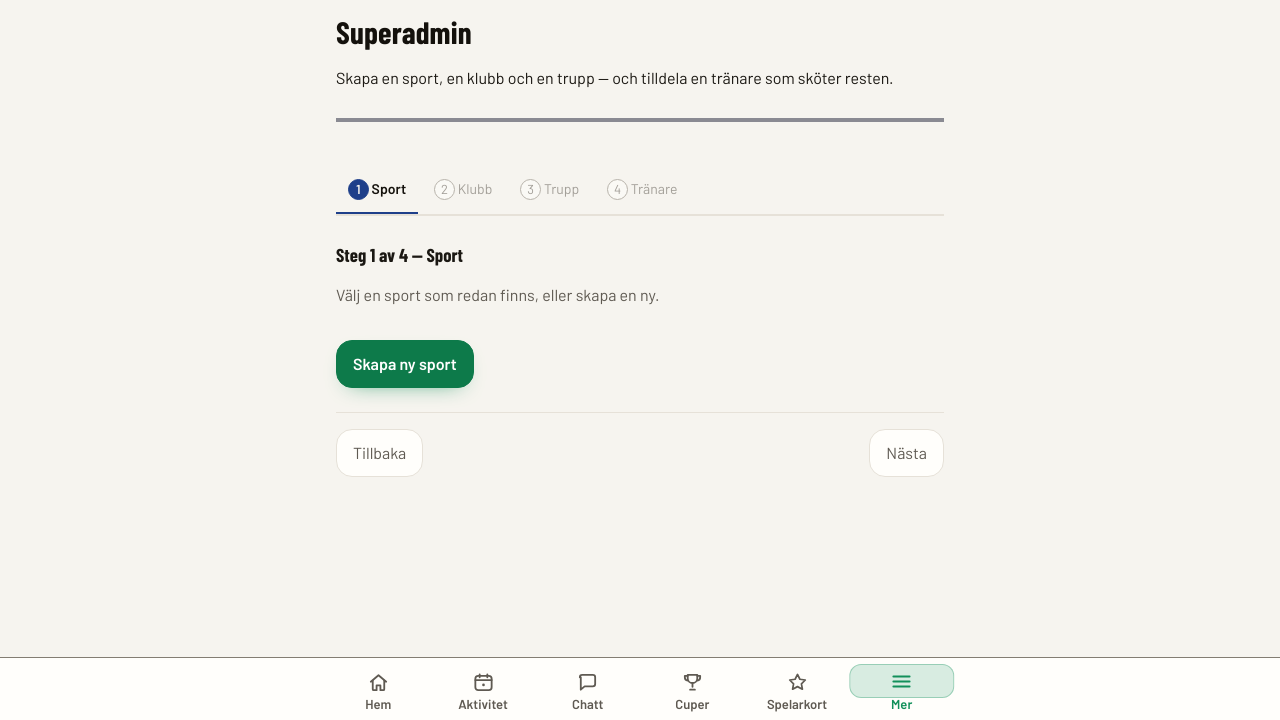
Test: Uppsättningsguiden › väljer sport med piltangenter och håller roving tabindex (#481)
Skapa två sporter så radiogruppen har mer än ett alternativ.
Click the button "Skapa ny sport" at {"x": 405, "y": 364}, box [336, 340, 474, 388]
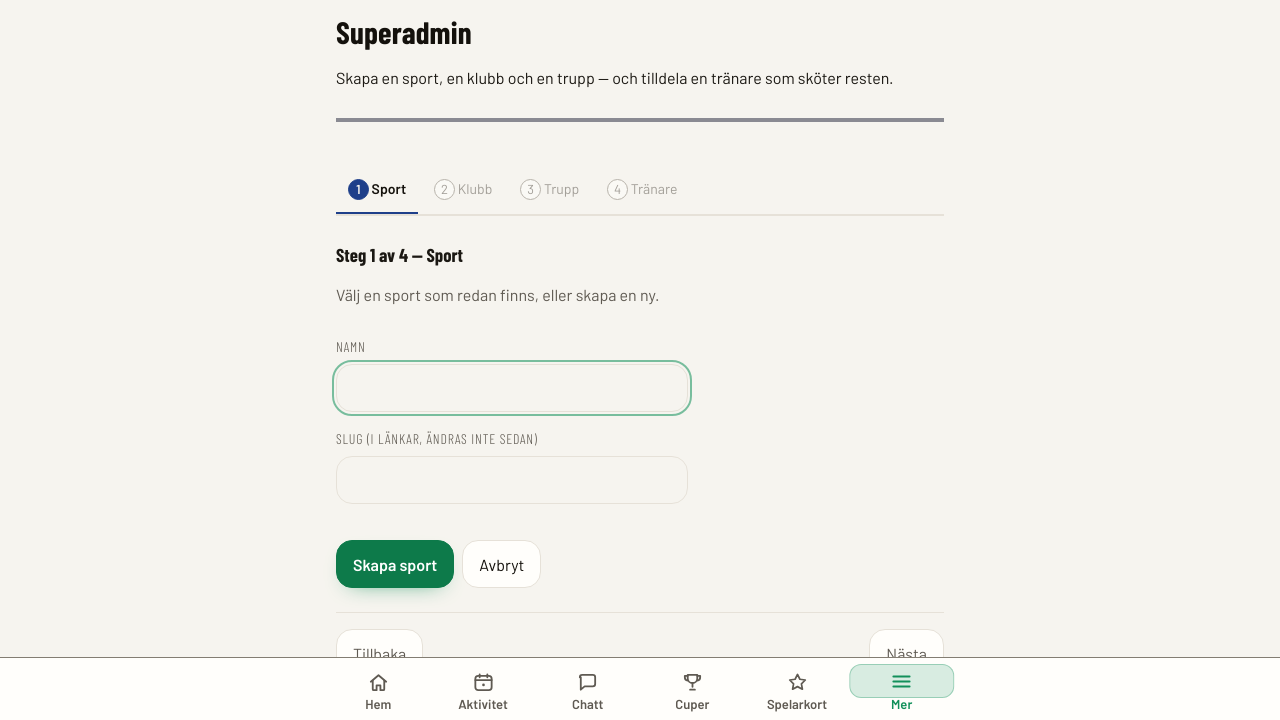
Type "Fotboll" into the field labelled "Namn" at {"x": 512, "y": 388}, box [336, 364, 688, 412]
Click the button "Skapa sport" at {"x": 395, "y": 564}, box [336, 540, 454, 588]
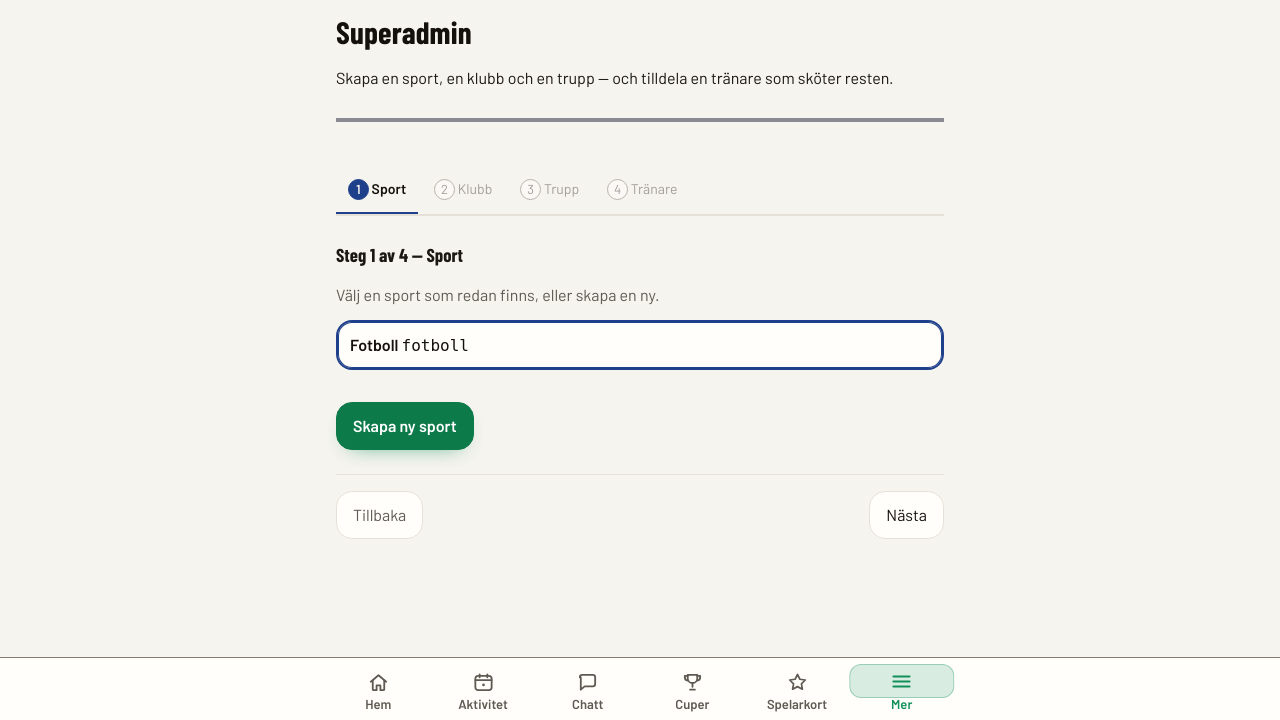
Result: the radio button labelled "Fotboll fotboll" is shown at [336, 320, 944, 370]
Click the button "Skapa ny sport" at {"x": 405, "y": 426}, box [336, 402, 474, 450]
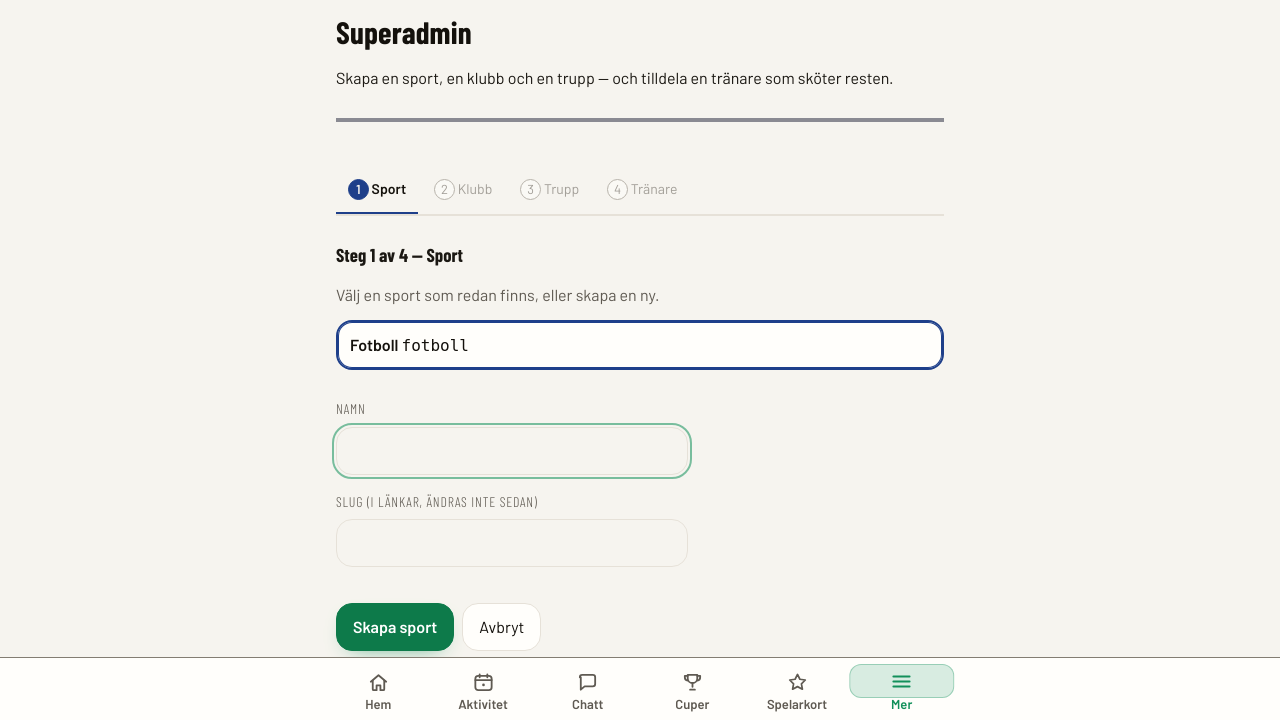
Type "Innebandy" into the field labelled "Namn" at {"x": 512, "y": 451}, box [336, 427, 688, 475]
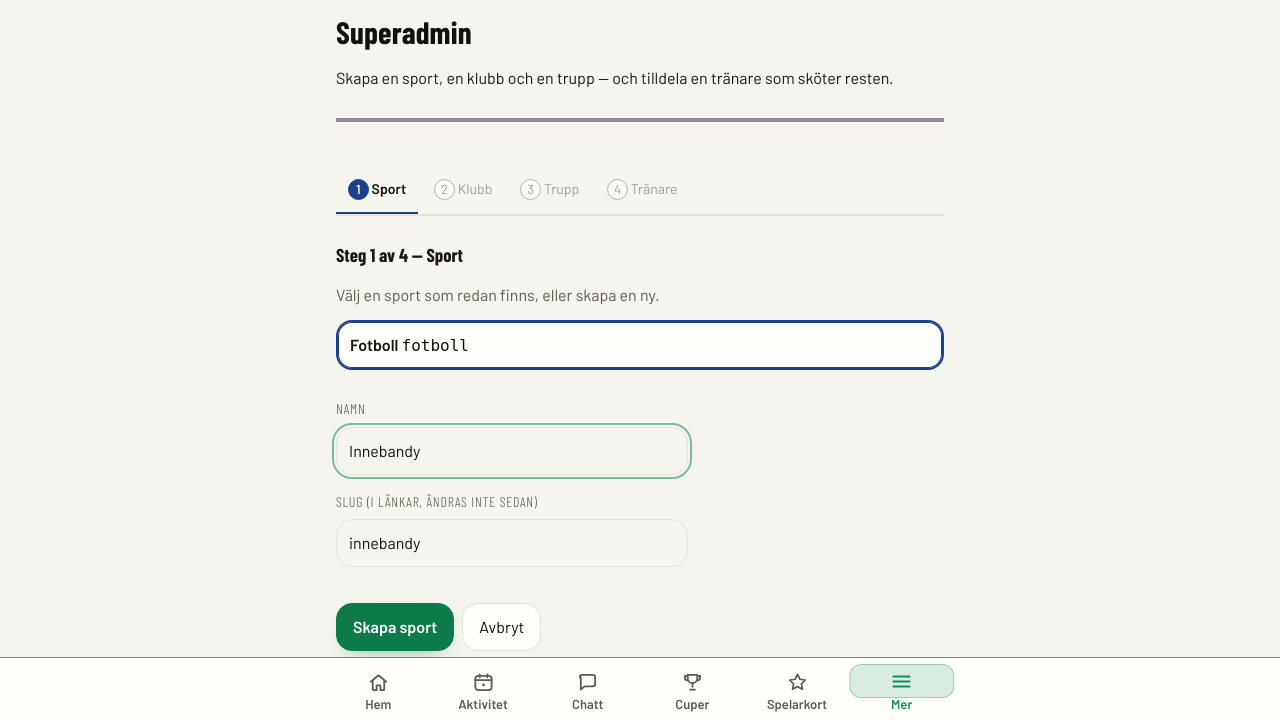
Click the button "Skapa sport" at {"x": 395, "y": 627}, box [336, 603, 454, 651]
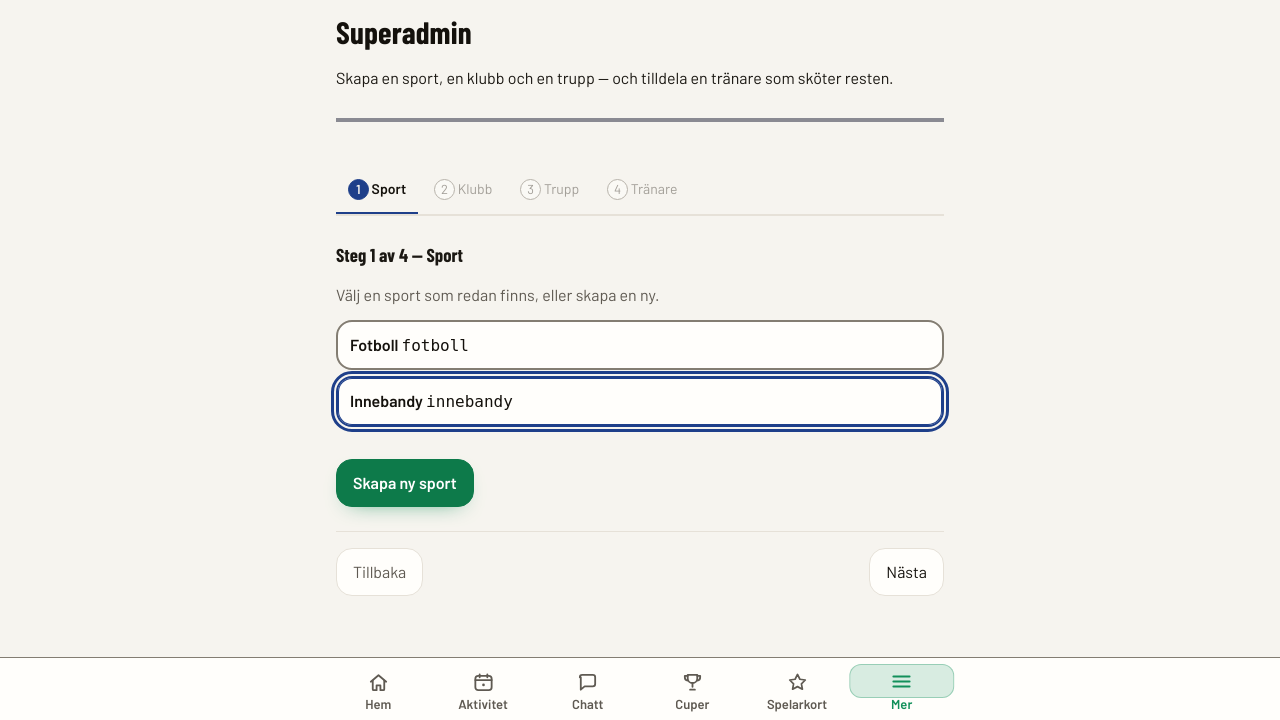
Result: the radio button labelled "Innebandy innebandy" is checked at [336, 376, 944, 427]
Press Arrowup
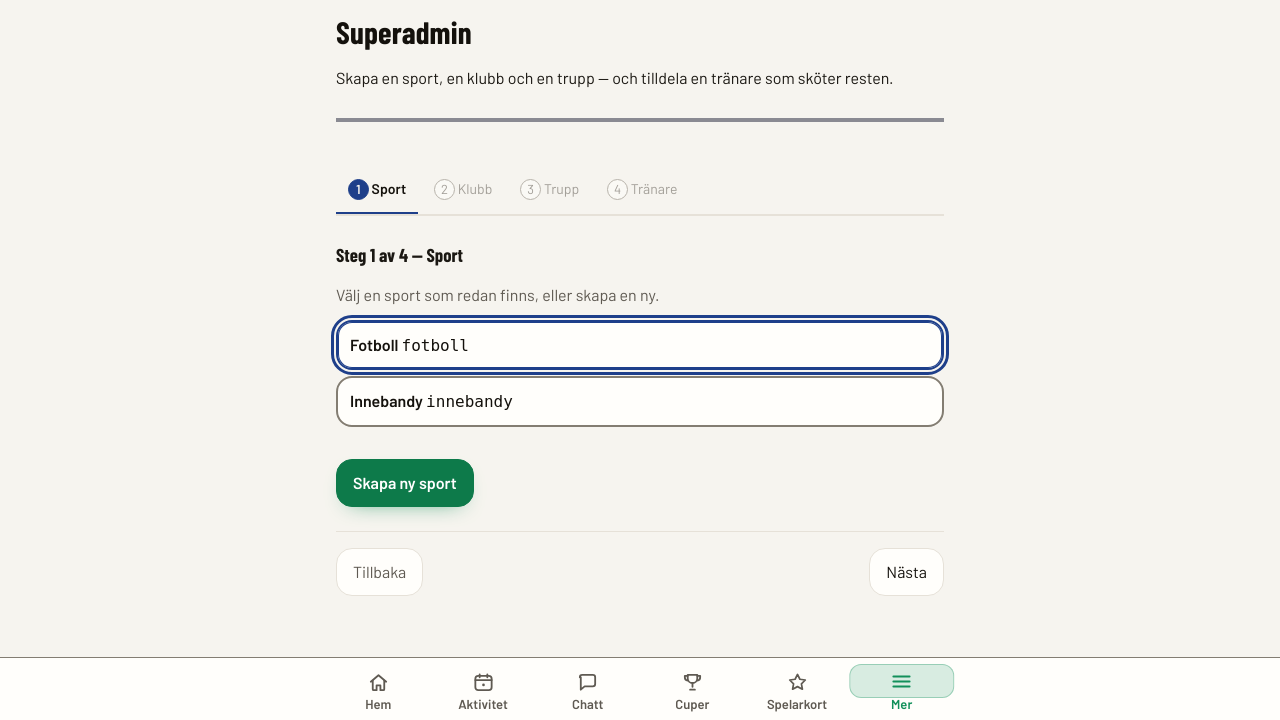
Result: the radio button labelled "Fotboll fotboll" is checked at [336, 320, 944, 370]
